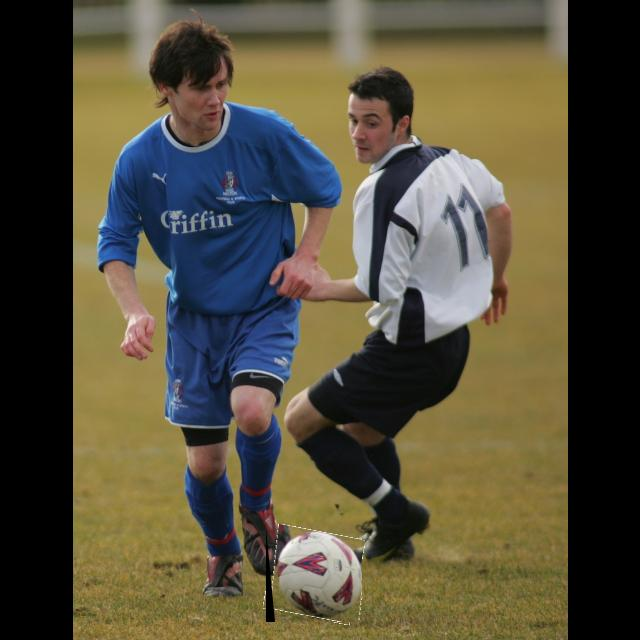Football: (266, 528, 362, 622)
